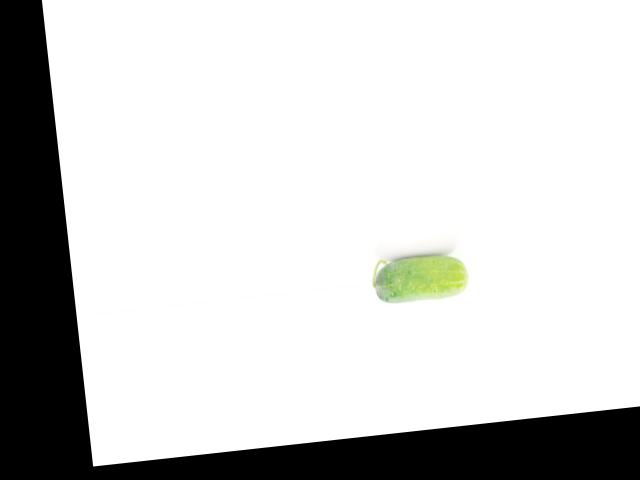cucumber: (370, 249, 471, 305)
